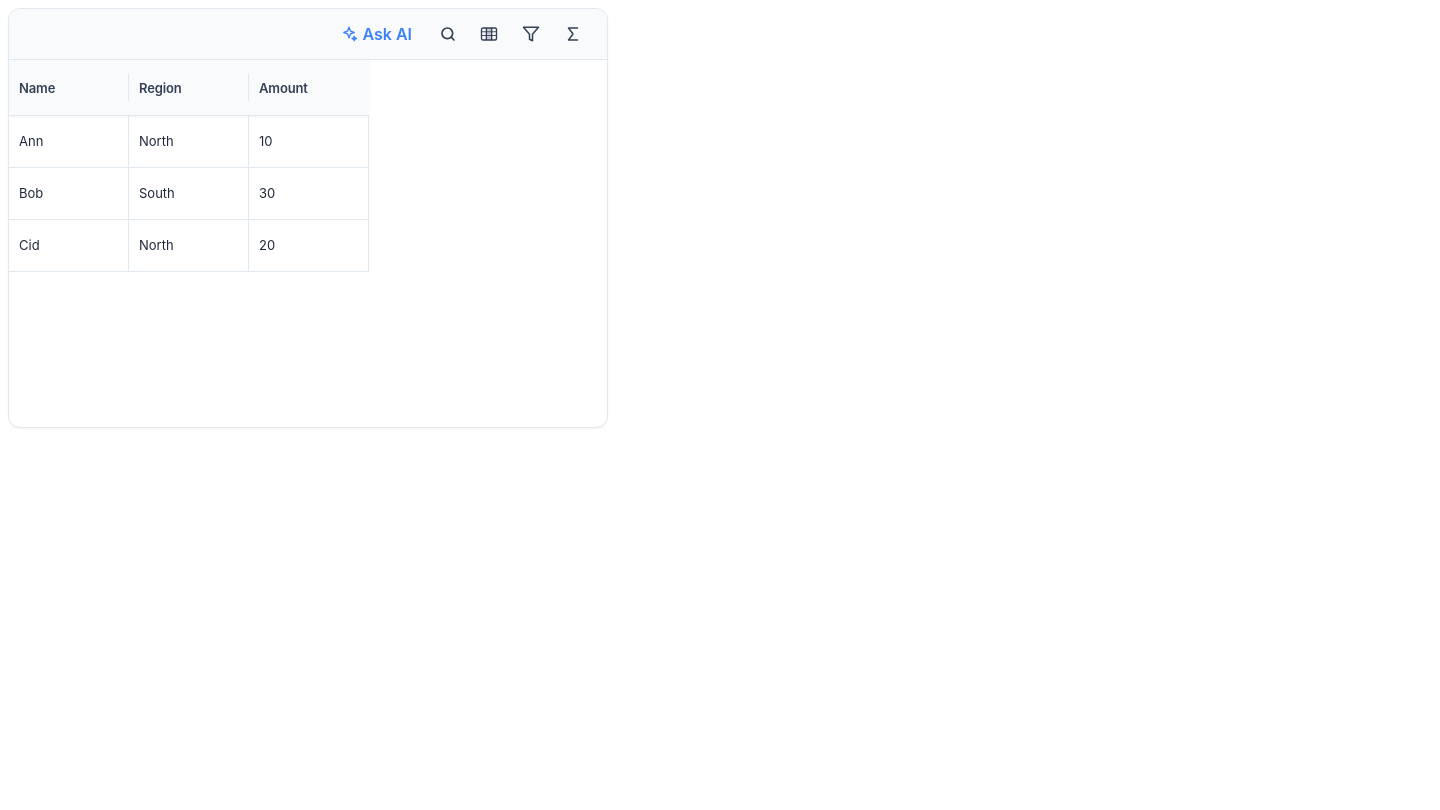
aiAssistant panel (browser) › Stop aborts the running request
Click the button "Ask AI" at [376, 34], box top-left (330, 17), bottom-right (422, 51)
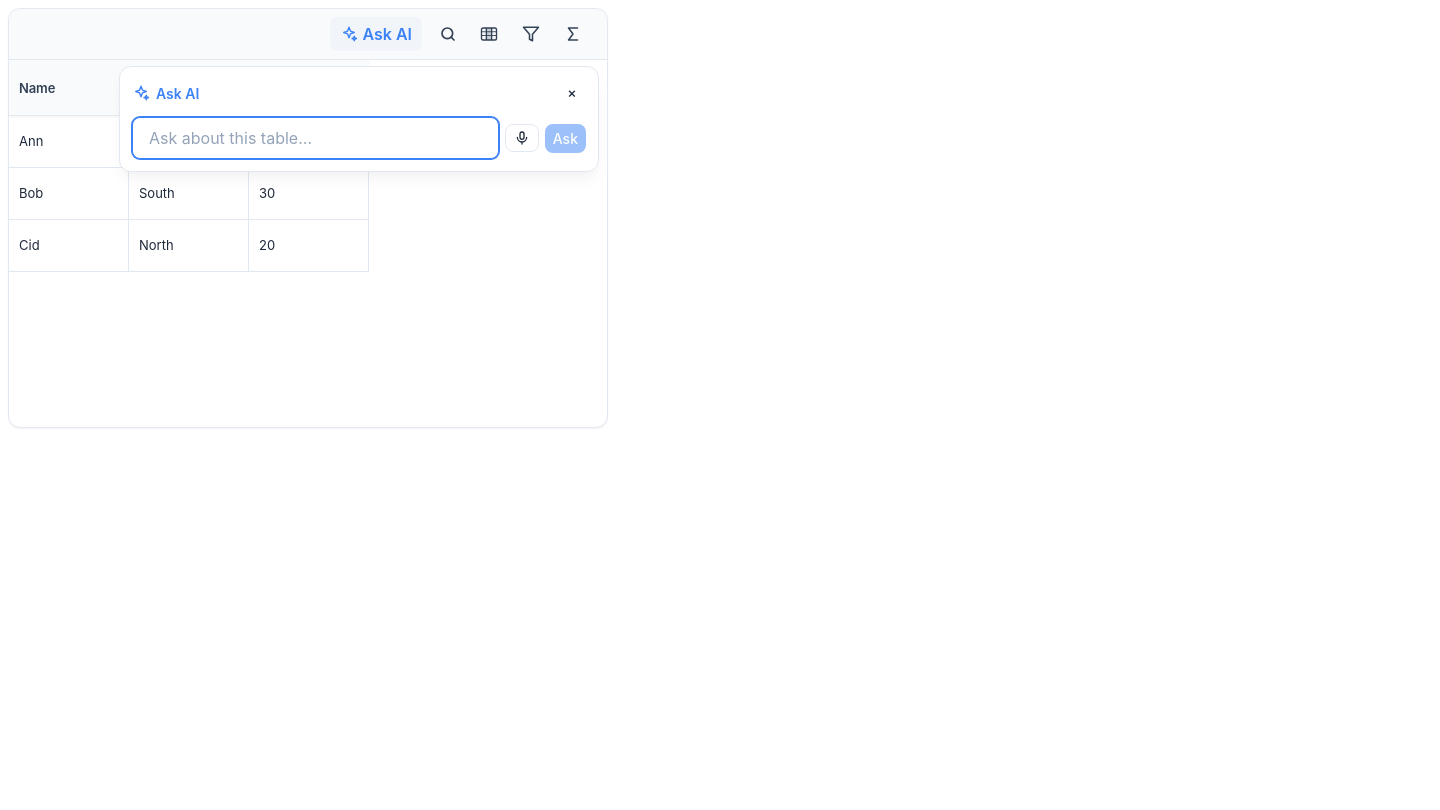
Type "anything" into the field with placeholder "Ask about this table…" at [315, 138], box top-left (133, 118), bottom-right (498, 158)
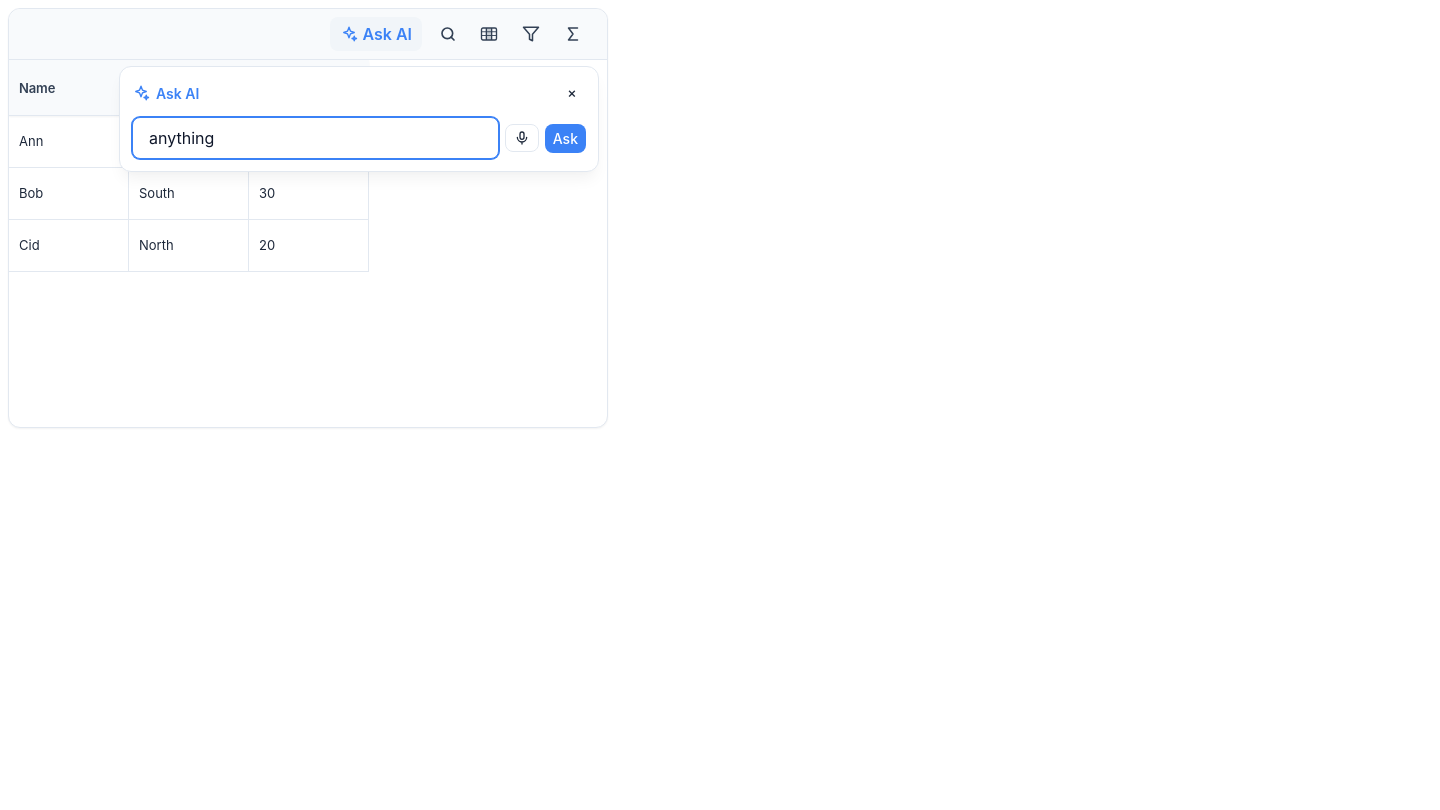
Press Enter
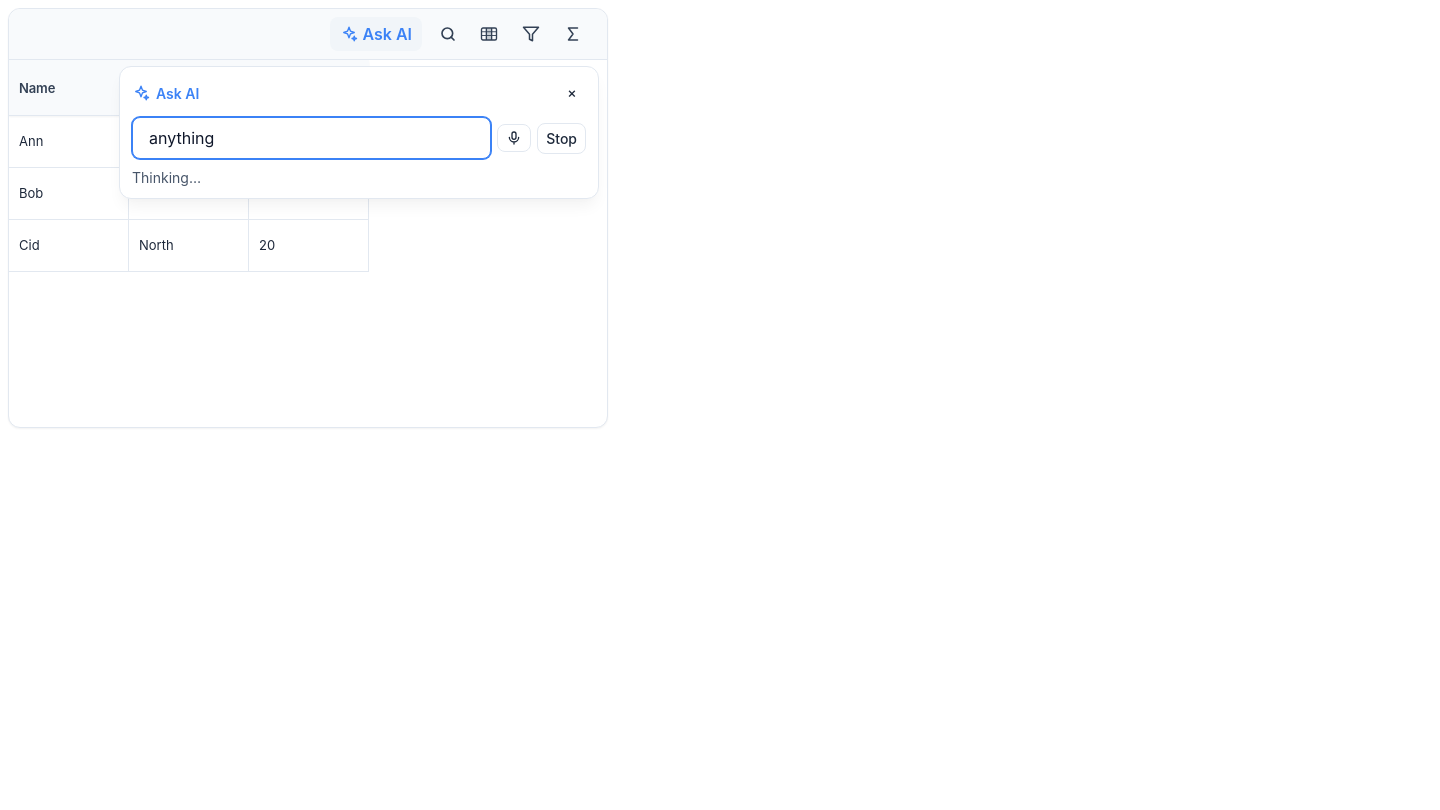
Expected: the text with class "ogx-ai-panel__status" reads "Thinking…", top-left (132, 169), bottom-right (201, 186)
Click the button "Stop" at [562, 138], box top-left (537, 122), bottom-right (586, 154)
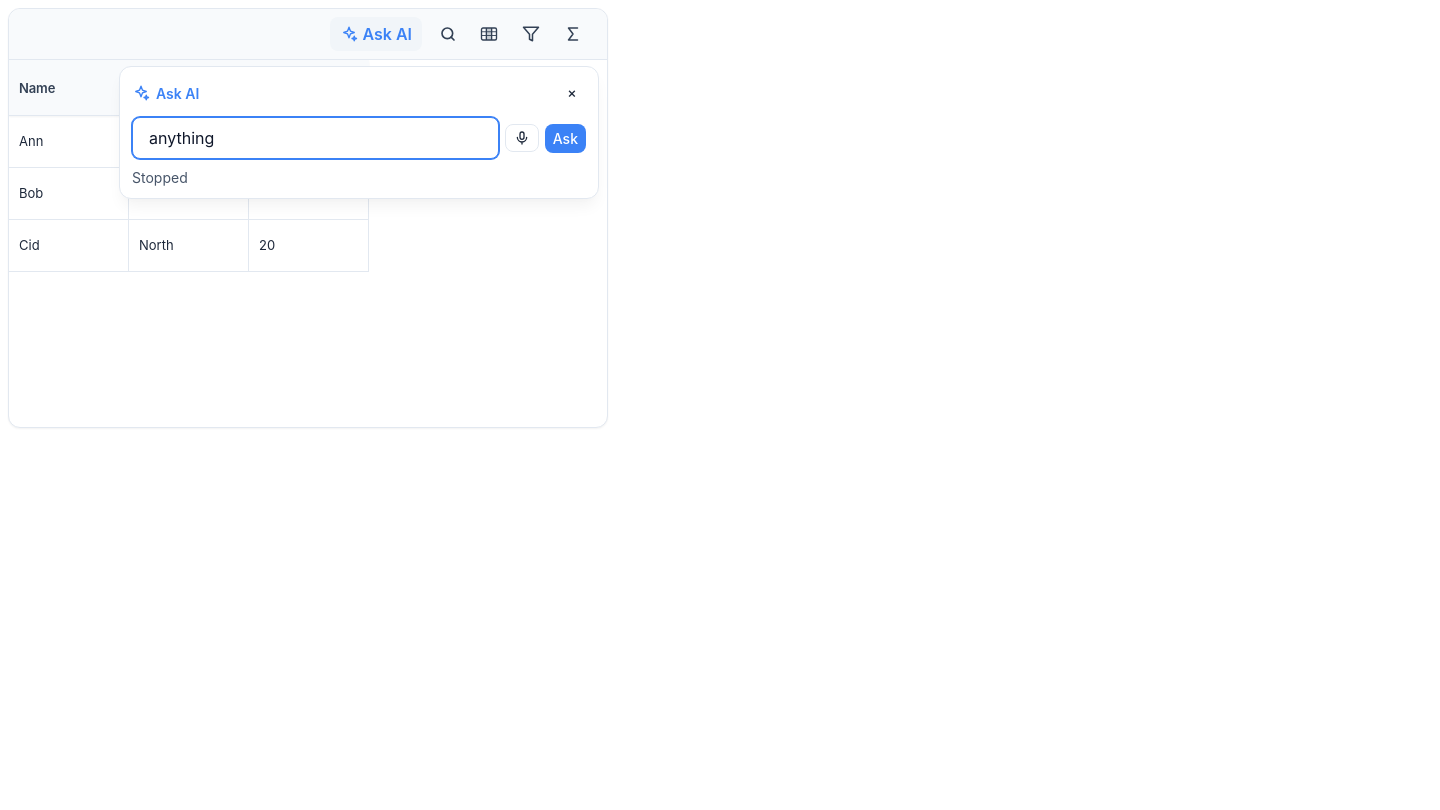
Expected: the text with class "ogx-ai-panel__status" reads "Stopped", top-left (132, 169), bottom-right (188, 186)
